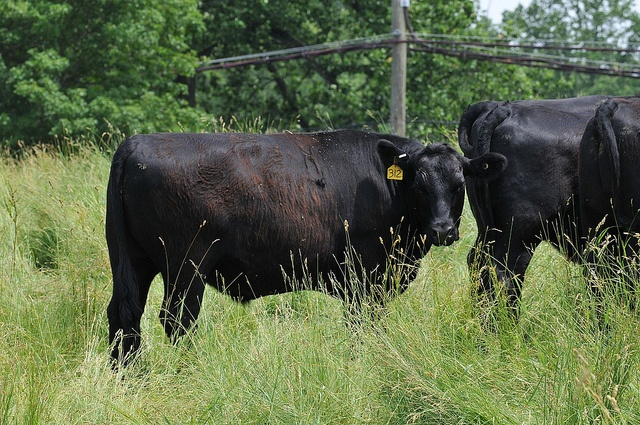cow: (78, 100, 461, 355)
